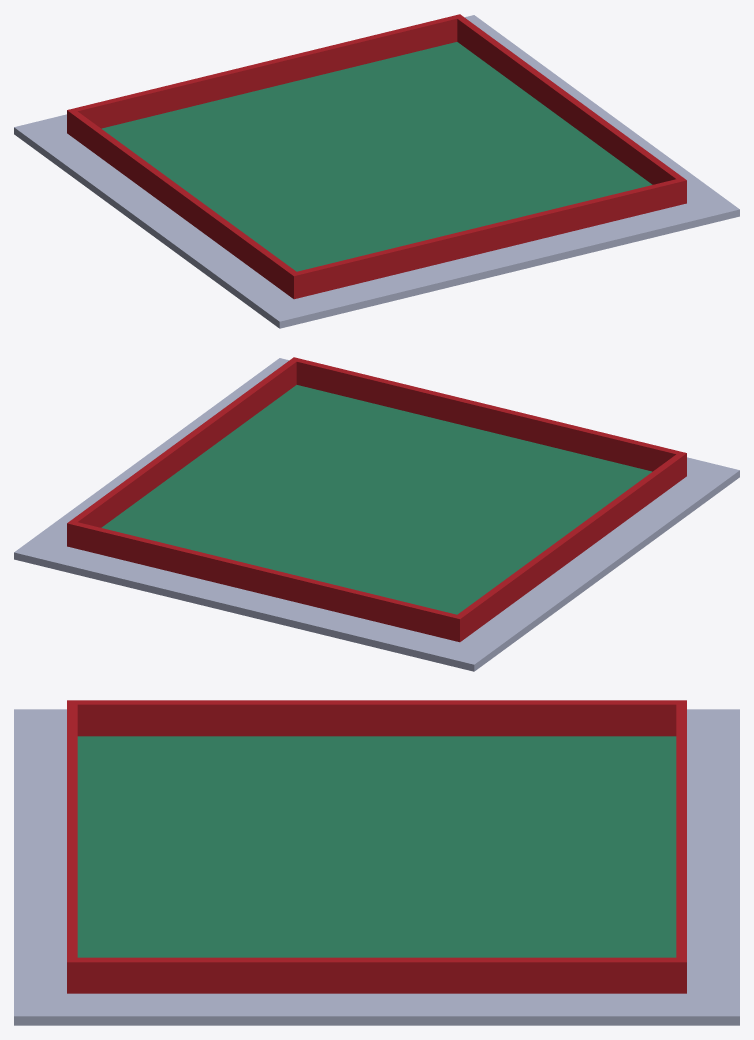
The model's file is BattleArena.fbx.
3 renders of one model, top to bottom at view 1: azimuth 30°, elevation 25°; view 2: azimuth 150°, elevation 25°; view 3: azimuth 270°, elevation 25°, orthographic. The views are drawn at different scales.
Visible parts, largest first — view 1: BattleArena; view 2: BattleArena; view 3: BattleArena.
Boxes of the visible parts, x1,y1,x2,y2 form: BattleArena: (14,14,739,328); BattleArena: (14,357,739,671); BattleArena: (14,700,739,1025).
Size of the model in its own units: 6061 by 6061 by 380.
